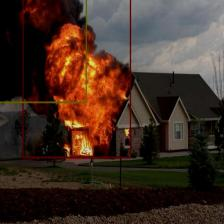fire: (22, 0, 131, 158)
smoke: (0, 0, 87, 103)
